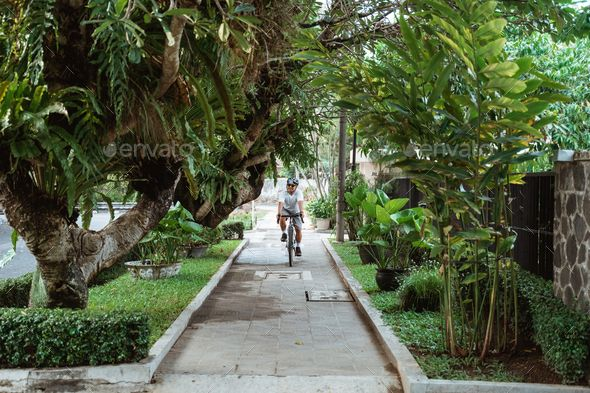helmet: (286, 177, 299, 193)
